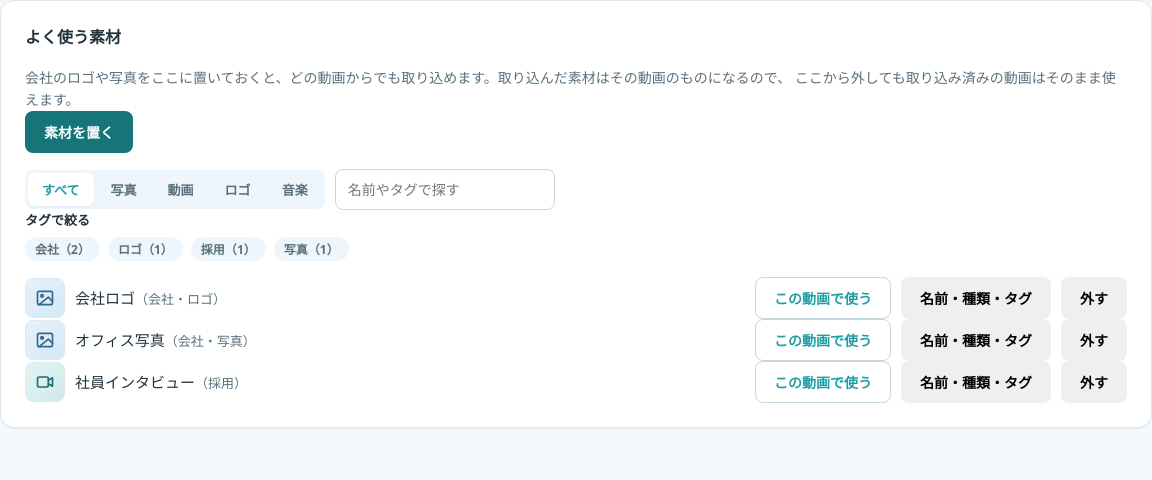
Test case: AssetLibraryPanel › 外すと、取り込み済みの動画はそのまま使えることを伝える
The width and height of the screenshot is (1152, 480).
Expected: the text "会社ロゴ" is shown, [75,288,135,308]
Click the button "外す" in the row of "会社ロゴ".
click(1094, 298)  # box [1061,277,1127,319]
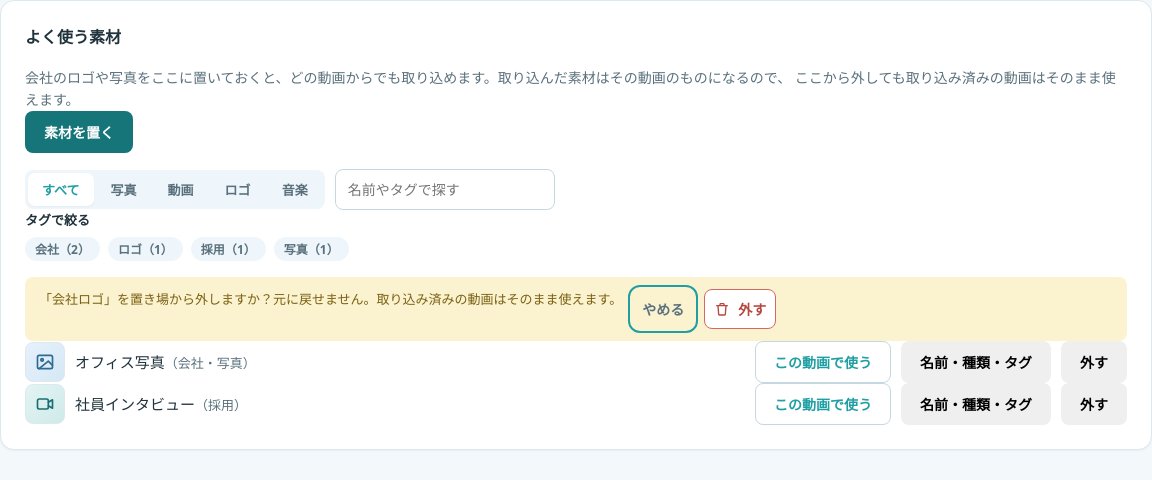
⚠️ **確認を通す**（🟡27）＝1クリックでは消えない。確認の中の「外す」を押す。
Click the 1st button "外す".
click(740, 309)  # box [704,289,776,329]
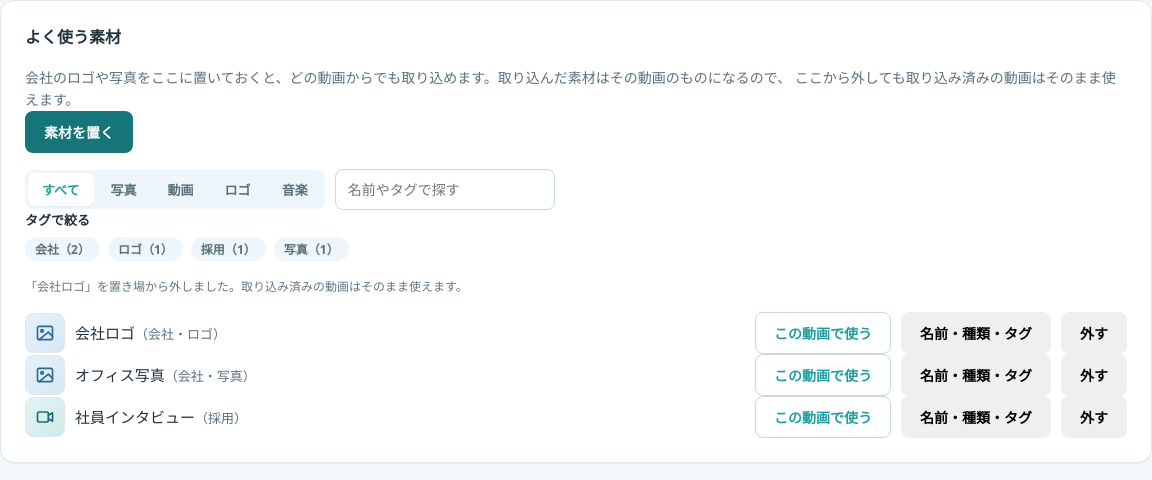
Expected: the text "「会社ロゴ」を置き場から外しました。取り込み済みの動画はそのまま使えます。" is shown, [25,278,468,295]
